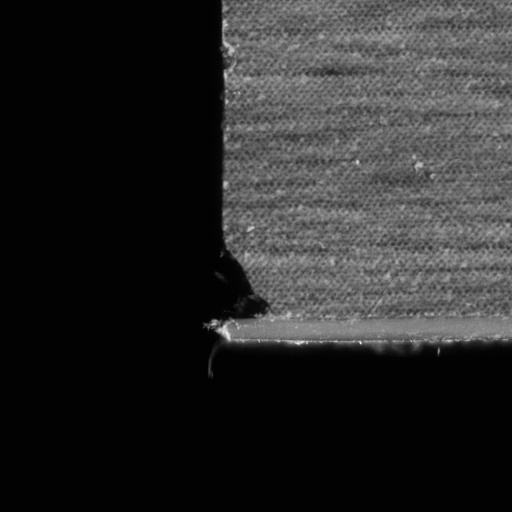bengque: (217, 237, 272, 327)
